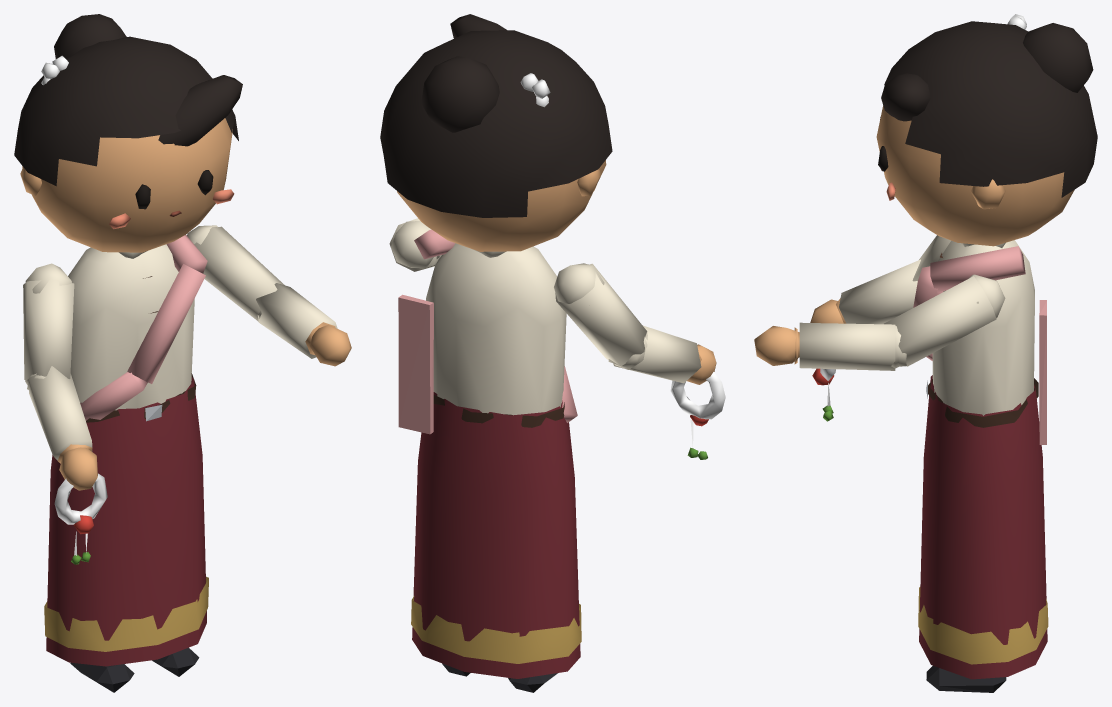
File: central_malai_dancer.glb
The picture shows the model from 3 angles, left to right: view 1: azimuth 30°, elevation 25°; view 2: azimuth 150°, elevation 25°; view 3: azimuth 270°, elevation 25°; orthographic projection. The views are drawn at different scales.
Visible parts, largest first — view 1: body, head, arm_R, forearm_R, forearm_L, arm_L, prop_malai, shin_R, shin_L; view 2: body, head, arm_R, forearm_R, prop_malai, arm_L; view 3: body, head, forearm_L, arm_L, forearm_R, shin_L, arm_R.
Boxes of the visible parts, x1,y1,x2,y2 form: body: [44, 235, 208, 666]; head: [14, 14, 242, 252]; arm_R: [23, 263, 74, 385]; forearm_R: [27, 366, 97, 490]; forearm_L: [256, 283, 351, 366]; arm_L: [187, 225, 284, 321]; prop_malai: [54, 473, 107, 564]; shin_R: [70, 662, 134, 692]; shin_L: [152, 647, 199, 676]; body: [398, 229, 581, 678]; head: [380, 14, 612, 251]; arm_R: [554, 263, 647, 366]; forearm_R: [613, 325, 716, 384]; prop_malai: [670, 372, 725, 459]; arm_L: [389, 218, 441, 271]; body: [913, 240, 1048, 679]; head: [876, 14, 1097, 246]; forearm_L: [754, 322, 900, 370]; arm_L: [884, 274, 1005, 366]; forearm_R: [810, 259, 920, 324]; shin_L: [926, 666, 1006, 692]; arm_R: [912, 235, 950, 281].
Size of the model in its own units: 0.673 by 1.48 by 0.7093.
